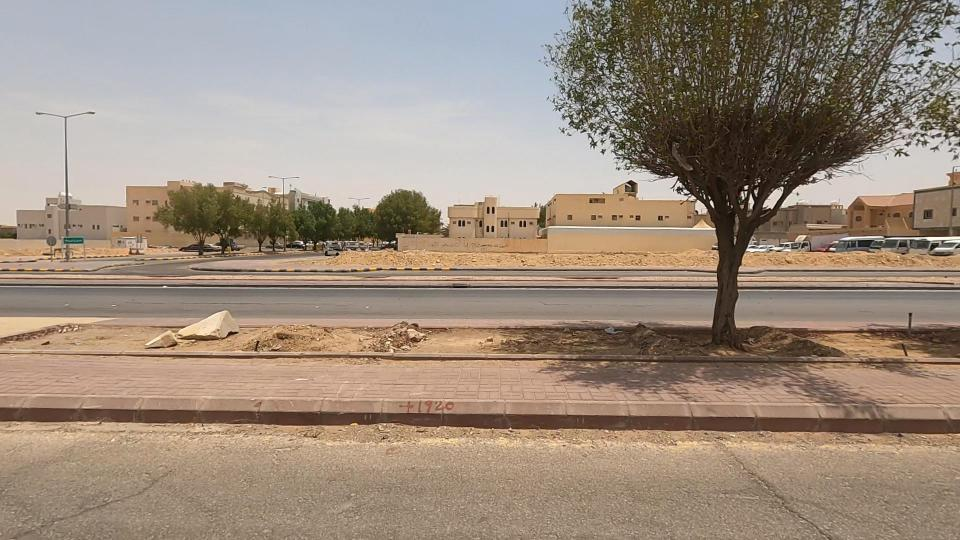CLUTTER_SIDEWALK: (197, 256, 797, 422), (0, 265, 438, 432)
